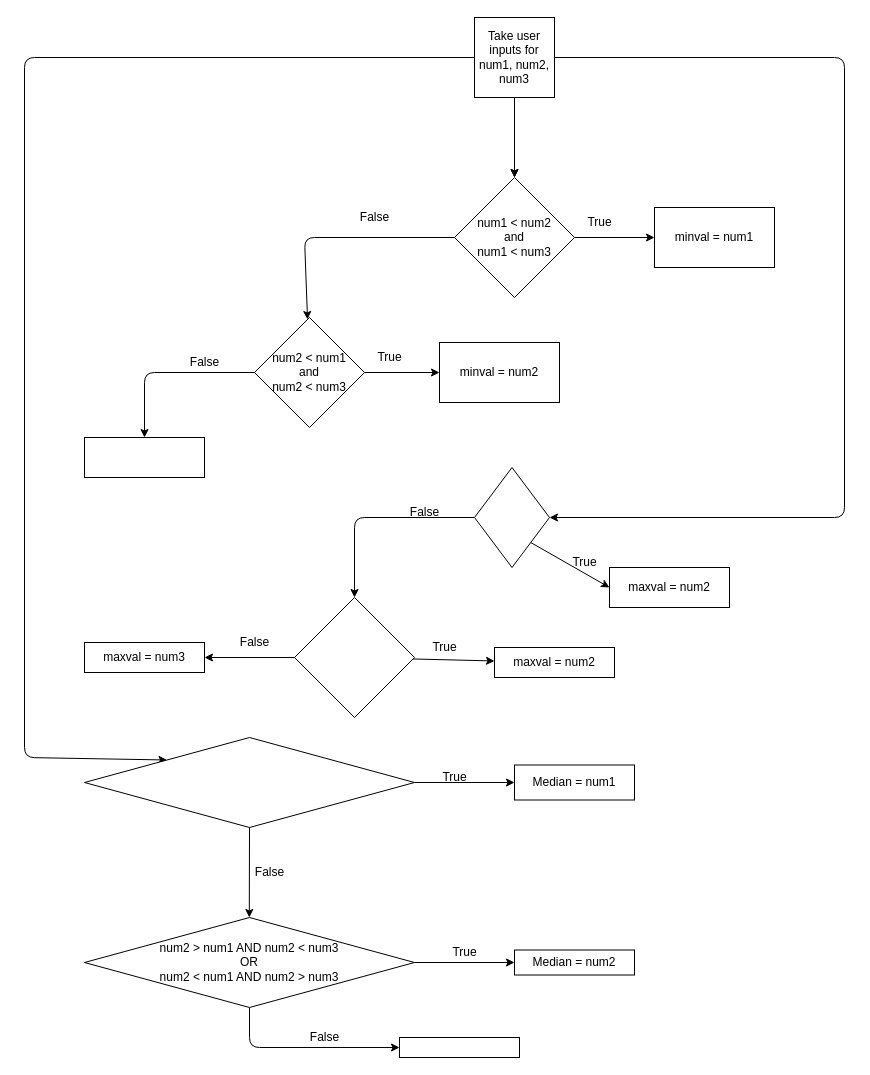
The diagram is 870 pixels wide and 1075 high, and some of its shapes have lost their labels. The box of each missing label's shape, as (x1, y1, x2, y2) in pixels:
Median = num3: (398, 1036, 520, 1058)
minval = num3: (84, 436, 204, 478)
num1 > num2 AND num1 < num3 OR num1 < num2 AND num1 > num3: (84, 736, 414, 828)
num1 > num2 AND num1 > num3: (474, 466, 550, 568)
num2 > num1 AND num2> num 3: (294, 596, 414, 718)
